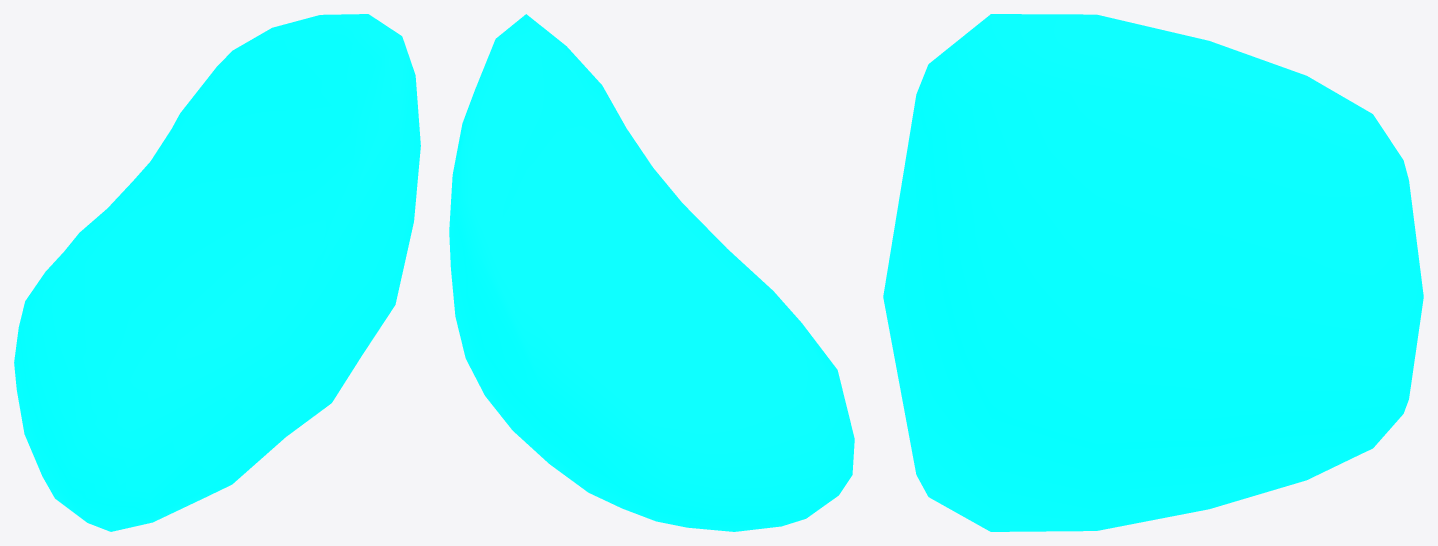
File: Energy6.fbx
3 views of the same model, side by side, from view 1: azimuth 30°, elevation 25°; view 2: azimuth 150°, elevation 25°; view 3: azimuth 270°, elevation 25° (orthographic). The views are drawn at different scales.
Visible parts, largest first — view 1: Energy6; view 2: Energy6; view 3: Energy6.
Part boxes in pixels (<box>): Energy6: <box>14,14,420,531</box>; Energy6: <box>449,14,854,531</box>; Energy6: <box>883,14,1423,531</box>.
Bounding box in the file's own units: 22.08 × 25.63 × 18.09.
